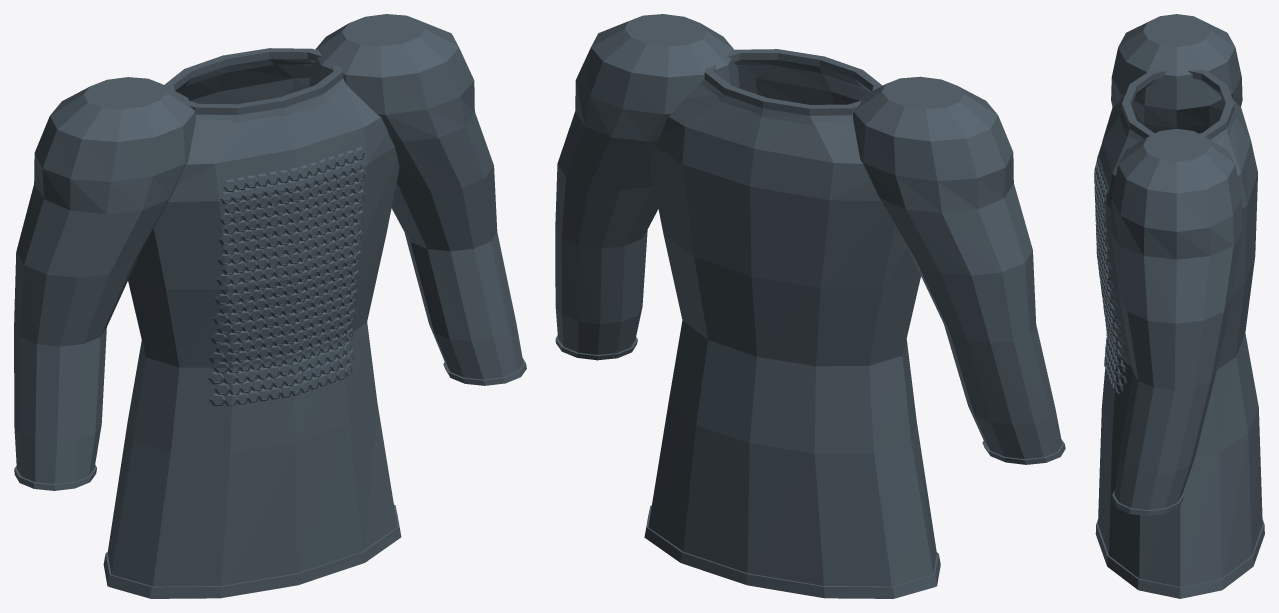
Rendered from chain_chest-male.glb.
The picture shows the model from 3 angles, left to right: view 1: azimuth 30°, elevation 25°; view 2: azimuth 150°, elevation 25°; view 3: azimuth 270°, elevation 25°; orthographic projection. The views are drawn at different scales.
Visible parts, largest first — view 1: chain tunic torso, chain long sleeve -1, chain long sleeve 1, chain woven coverage on chain tunic torso, Fitted tunic neckline, Bound tunic hem; view 2: chain tunic torso, chain long sleeve -1, chain long sleeve 1, Fitted tunic neckline, Bound tunic hem; view 3: chain long sleeve 1, chain tunic torso, chain long sleeve -1, chain woven coverage on chain tunic torso, Fitted tunic neckline, Bound tunic hem, Sleeve cuff binding 1.
Boxes of the visible parts, bbox=[...] form: chain tunic torso: bbox=[107, 64, 399, 598]; chain long sleeve -1: bbox=[14, 77, 196, 484]; chain long sleeve 1: bbox=[309, 14, 523, 379]; chain woven coverage on chain tunic torso: bbox=[208, 147, 366, 405]; Fitted tunic neckline: bbox=[164, 48, 347, 123]; Bound tunic hem: bbox=[103, 505, 401, 598]; chain tunic torso: bbox=[648, 65, 936, 598]; chain long sleeve -1: bbox=[853, 76, 1062, 458]; chain long sleeve 1: bbox=[555, 14, 739, 354]; Fitted tunic neckline: bbox=[701, 49, 882, 125]; Bound tunic hem: bbox=[644, 505, 940, 598]; chain long sleeve 1: bbox=[1111, 128, 1242, 510]; chain tunic torso: bbox=[1098, 97, 1262, 598]; chain long sleeve -1: bbox=[1111, 14, 1242, 133]; chain woven coverage on chain tunic torso: bbox=[1094, 146, 1128, 394]; Fitted tunic neckline: bbox=[1119, 69, 1236, 142]; Bound tunic hem: bbox=[1095, 520, 1264, 598]; Sleeve cuff binding 1: bbox=[1111, 491, 1184, 515].
Bounding box in the file's own units: 3.73 × 3.49 × 1.21.
